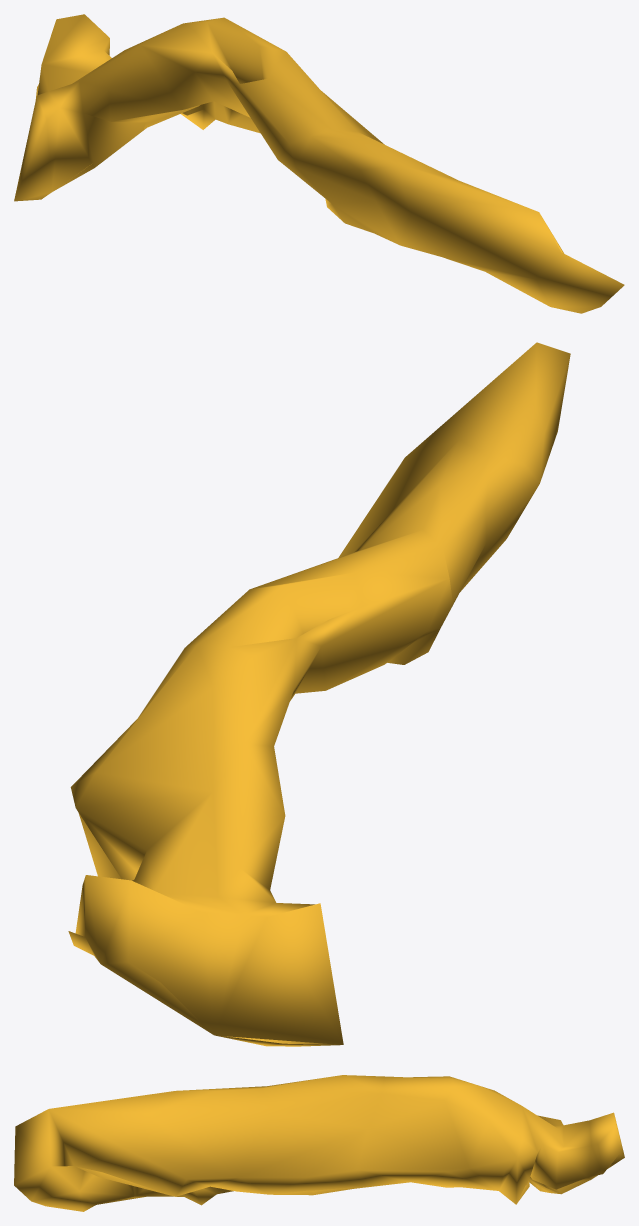
Rendered from nervoso-olfactory-sulcus-r.glb.
The picture shows the model from 3 angles, top to bottom: view 1: azimuth 30°, elevation 25°; view 2: azimuth 150°, elevation 25°; view 3: azimuth 270°, elevation 25°; orthographic projection. The views are drawn at different scales.
Visible parts, largest first — view 1: Olfactory sulcus.r; view 2: Olfactory sulcus.r; view 3: Olfactory sulcus.r.
Boxes of the visible parts, x1,y1,x2,y2 form: Olfactory sulcus.r: (14,14,624,313); Olfactory sulcus.r: (68,342,570,1046); Olfactory sulcus.r: (14,1075,624,1211).
Bounding box in the file's own units: 0.0213 × 0.0158 × 0.0575.
